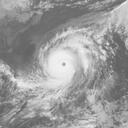cyclone: (37, 29, 98, 88)
